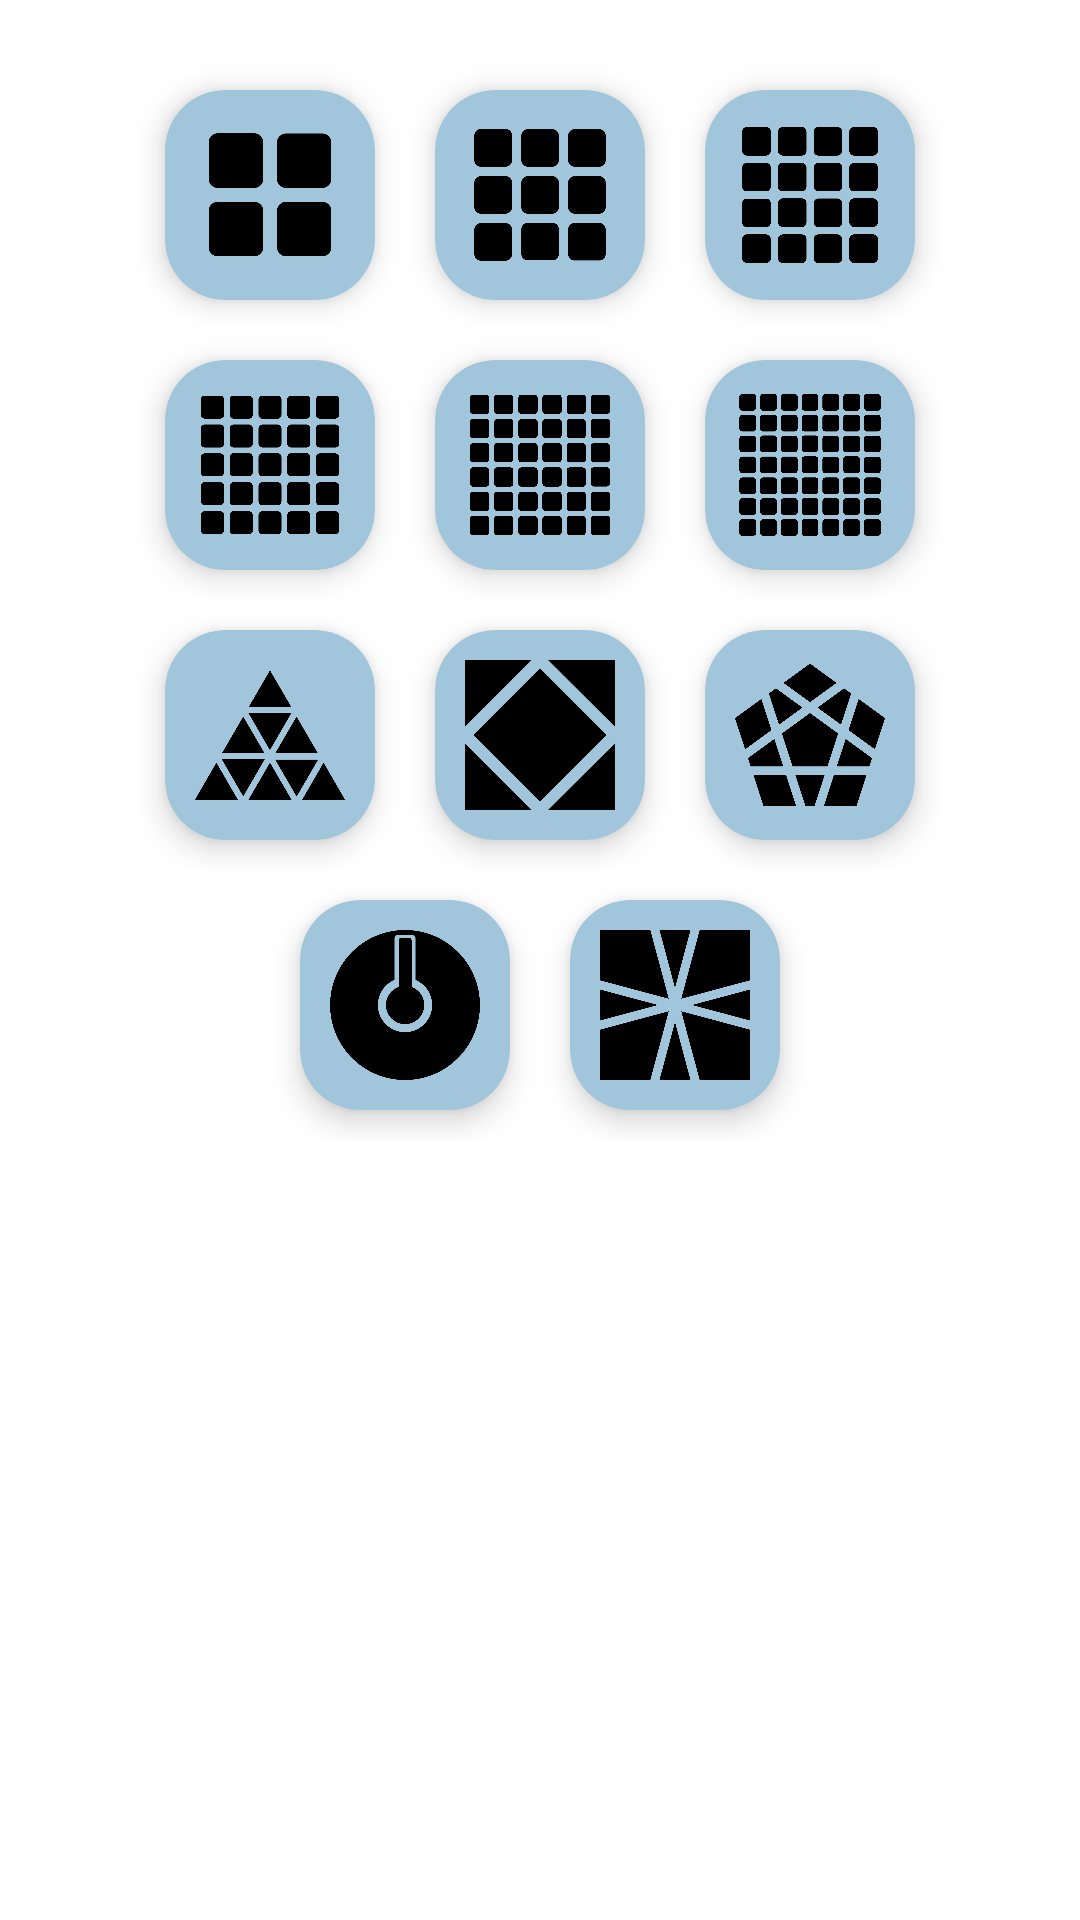

Locate icon controls on the screen. Image size 1080px x 1920px, boxes as box=[x1, y1, x2, y2].
cube clock: box=[330, 930, 480, 1080]
cube megaminx: box=[735, 664, 885, 806]
cube pyraminx: box=[195, 671, 345, 800]
